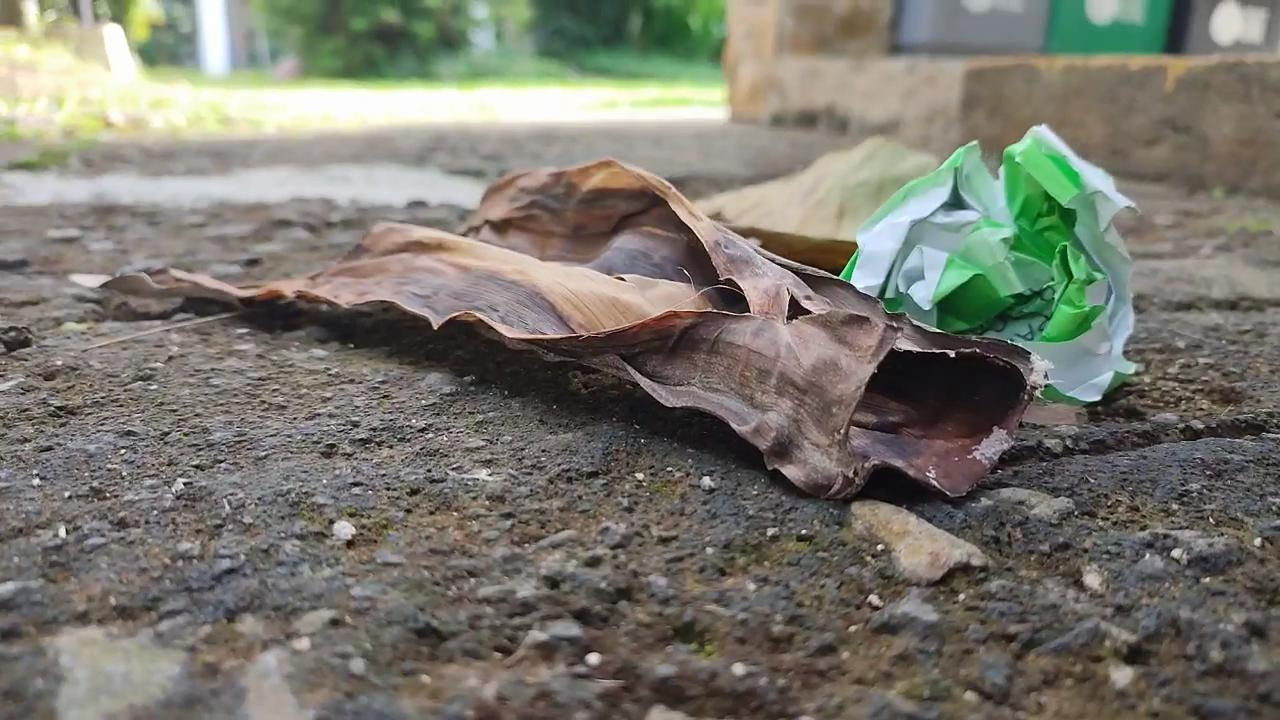Paper: (813, 112, 1159, 409)
